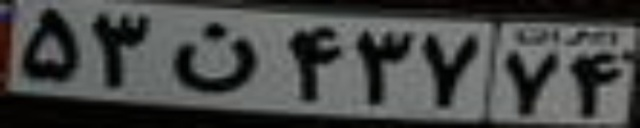3: (87, 11, 153, 88), (352, 29, 415, 104)
4: (287, 25, 340, 101), (568, 53, 623, 117)
5: (20, 7, 77, 82)
7: (420, 33, 480, 107), (504, 49, 558, 116)
non: (171, 21, 260, 92)
